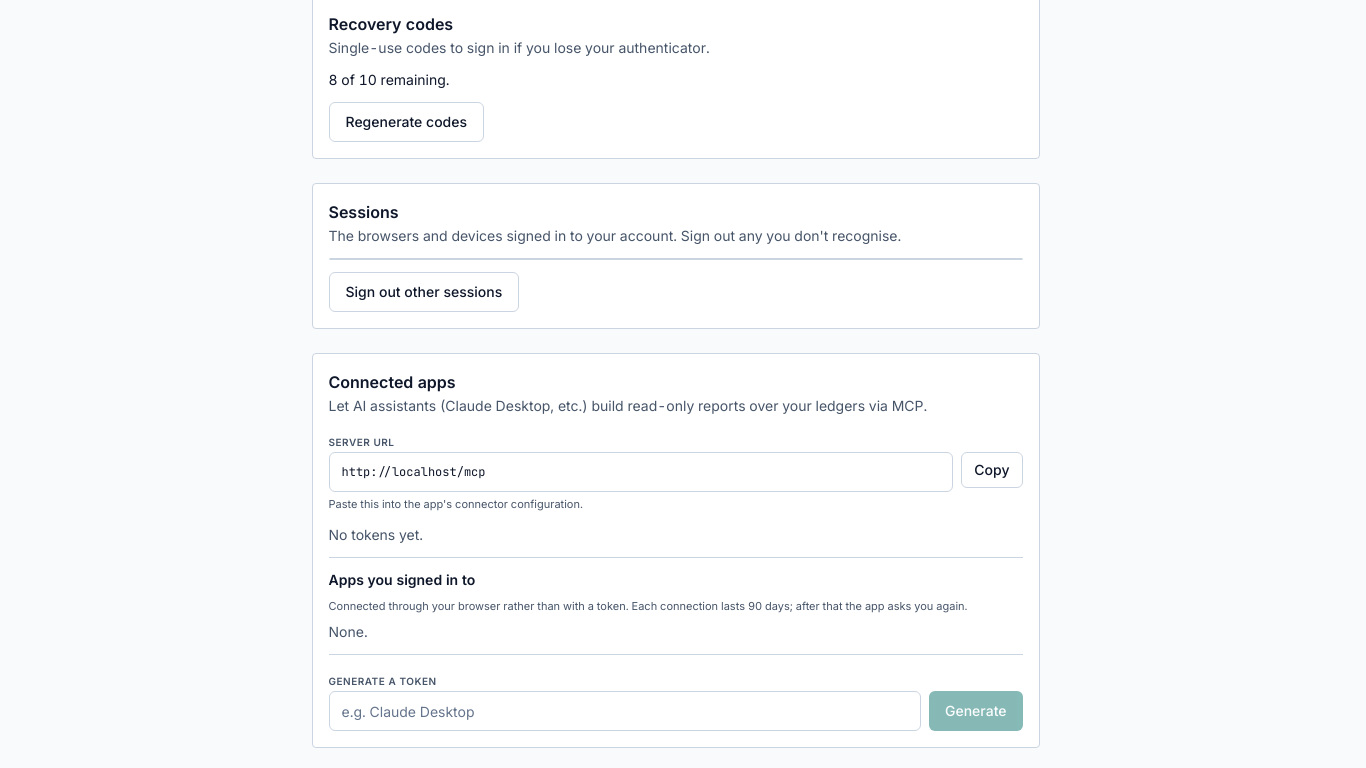
Test: AccountSecurityPage › shows the new token exactly once after generating
(page scrolled)
In the field with placeholder "e.g. Claude Desktop": (625, 711) 328,691 -> 921,731, type "Claude Desktop"
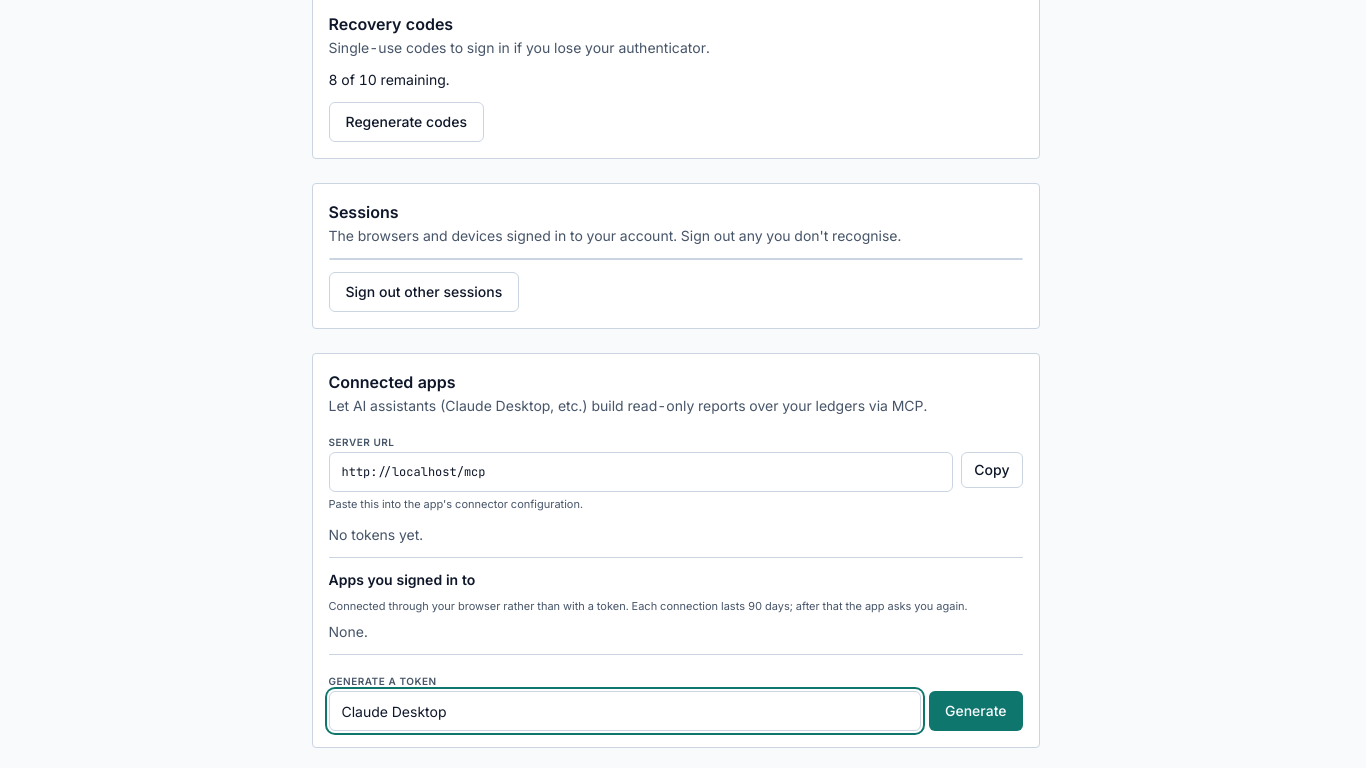
Click the button "Generate": (976, 711) 929,691 -> 1022,731
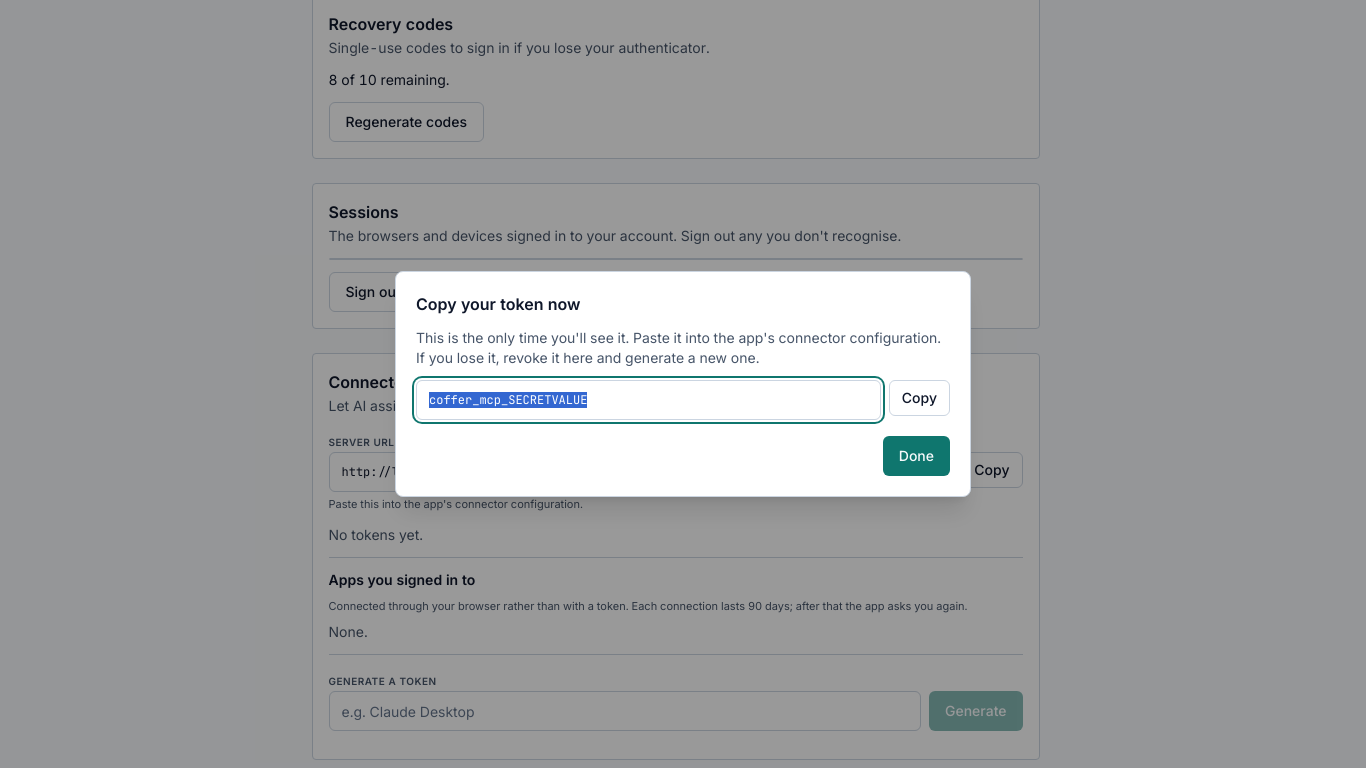
Now the heading "Copy your token now" is shown, box 416,294 -> 580,314
Now the field showing "coffer_mcp_SECRETVALUE" is shown, box 416,380 -> 881,420
